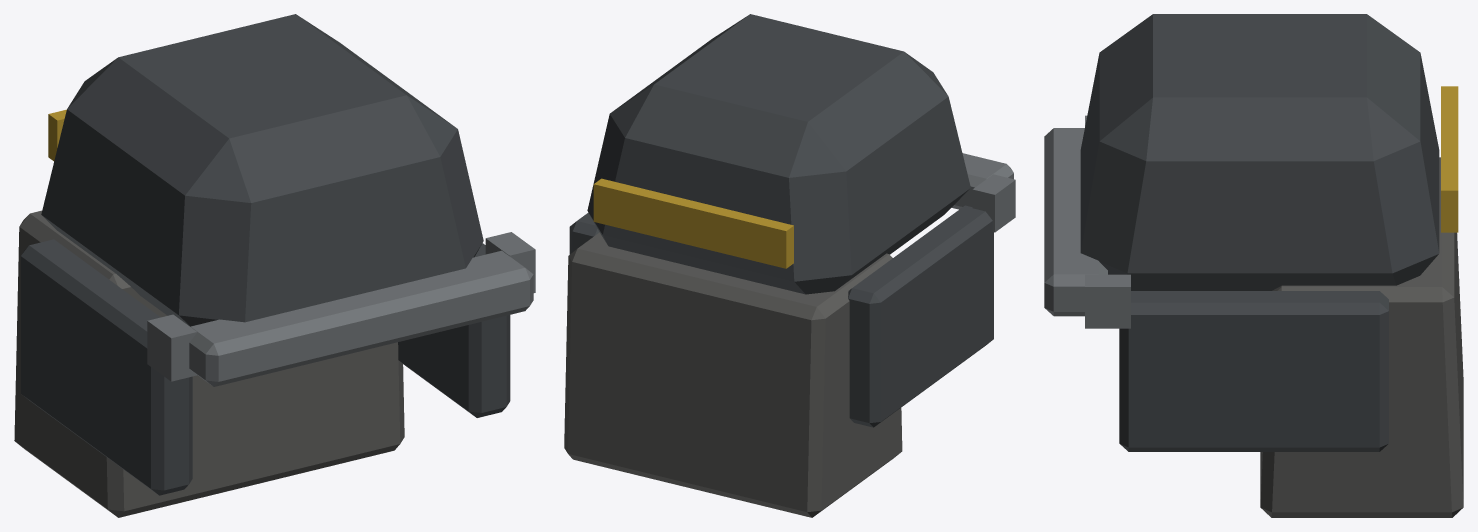
The model's file is item_helmet_riot.glb.
The picture shows the model from 3 angles, left to right: view 1: azimuth 30°, elevation 25°; view 2: azimuth 150°, elevation 25°; view 3: azimuth 270°, elevation 25°; orthographic projection. The views are drawn at different scales.
Parts seen in each view (by area): view 1: helmet_riot; view 2: helmet_riot; view 3: helmet_riot.
Part boxes in pixels (bbox=[...]): helmet_riot: bbox=[14, 14, 535, 517]; helmet_riot: bbox=[564, 14, 1015, 517]; helmet_riot: bbox=[1044, 14, 1463, 517].
Bounding box in the file's own units: 0.3512 × 0.38 × 0.3632.
